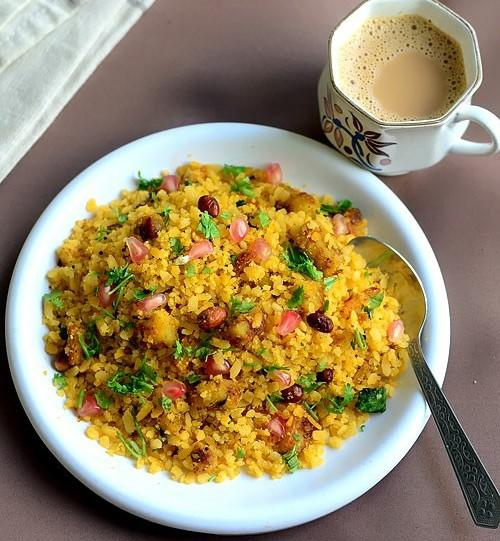Poha: (38, 169, 400, 476)
